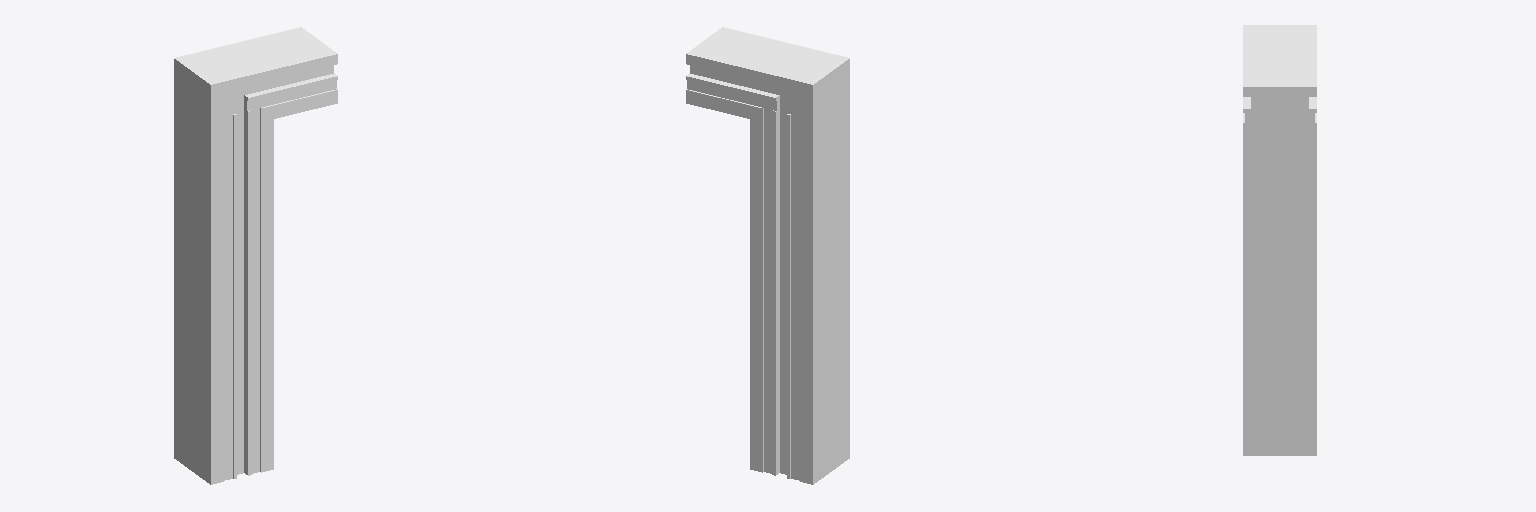
The model's file is GloryCubeYseg1-1-Start.obj.
3 renders of one model, left to right at view 1: azimuth 30°, elevation 25°; view 2: azimuth 150°, elevation 25°; view 3: azimuth 270°, elevation 25°, orthographic.
Visible parts, largest first — view 1: Start; view 2: Start; view 3: Start.
Part boxes in pixels (x1,y1,x2,y2): Start: (174,27,337,484); Start: (686,27,849,484); Start: (1243,25,1316,455).
Bounding box in the file's own units: 7.8 × 23.4 × 3.9.